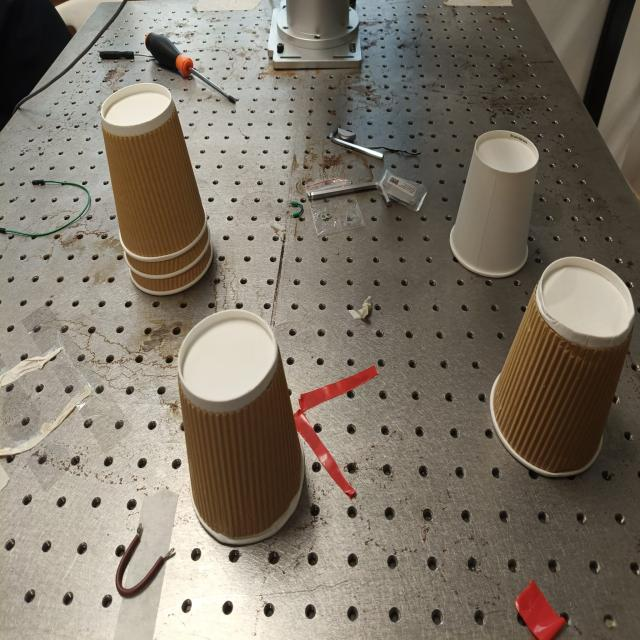Browncup: (490, 257, 634, 476), (178, 310, 304, 545), (101, 83, 211, 292), (130, 230, 212, 295), (125, 227, 209, 279)
Whitecup: (450, 130, 538, 278)
